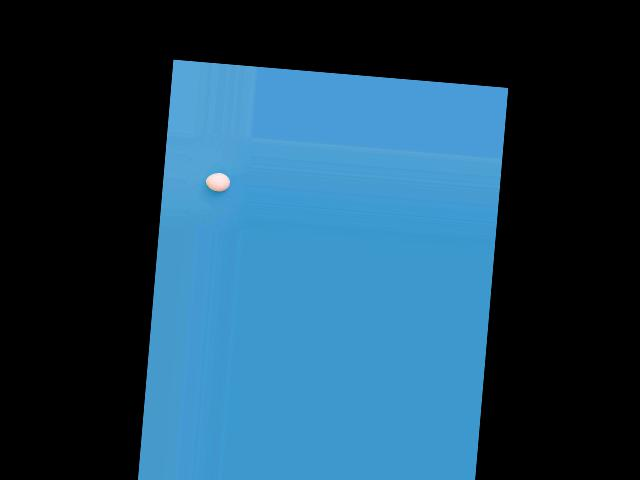egg: (204, 172, 231, 192)
